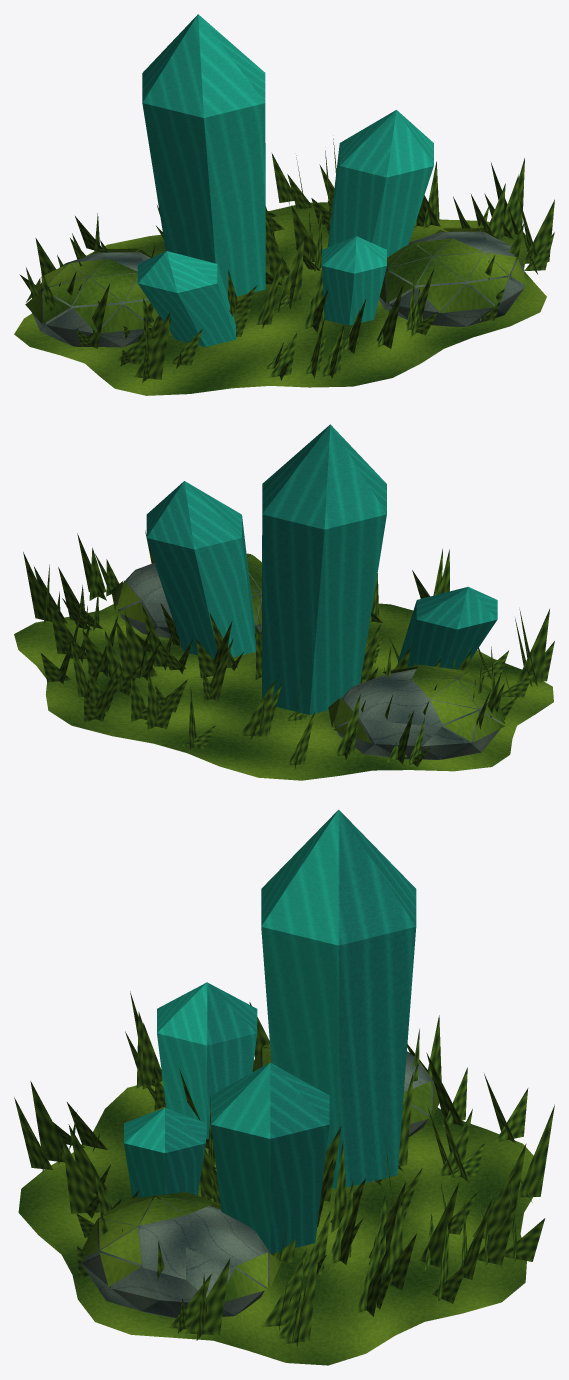
The model's file is teal-cluster-small.glb.
3 renders of one model, top to bottom at view 1: azimuth 30°, elevation 25°; view 2: azimuth 150°, elevation 25°; view 3: azimuth 270°, elevation 25°, orthographic. The views are drawn at different scales.
Visible parts, largest first — view 1: teal-cluster-small_props-teal, teal-cluster-small_props-moss, teal-cluster-small_props-grass, teal-cluster-small_props-rock; view 2: teal-cluster-small_props-teal, teal-cluster-small_props-moss, teal-cluster-small_props-grass, teal-cluster-small_props-rock; view 3: teal-cluster-small_props-teal, teal-cluster-small_props-moss, teal-cluster-small_props-grass, teal-cluster-small_props-rock.
Boxes of the visible parts, left/top/right/bottom form: teal-cluster-small_props-teal: left=137, top=14, right=433, bottom=346; teal-cluster-small_props-moss: left=14, top=202, right=546, bottom=395; teal-cluster-small_props-grass: left=19, top=138, right=554, bottom=382; teal-cluster-small_props-rock: left=32, top=231, right=524, bottom=347; teal-cluster-small_props-teal: left=146, top=424, right=497, bottom=714; teal-cluster-small_props-moss: left=14, top=553, right=553, bottom=780; teal-cluster-small_props-grass: left=23, top=530, right=554, bottom=769; teal-cluster-small_props-rock: left=117, top=563, right=501, bottom=759; teal-cluster-small_props-teal: left=124, top=809, right=416, bottom=1253; teal-cluster-small_props-moss: left=18, top=1042, right=533, bottom=1365; teal-cluster-small_props-grass: left=14, top=991, right=554, bottom=1348; teal-cluster-small_props-rock: left=81, top=1048, right=434, bottom=1318.
Bounding box in the file's own units: 1.35 × 0.7909 × 1.03.
4 materials, 4 textured.
